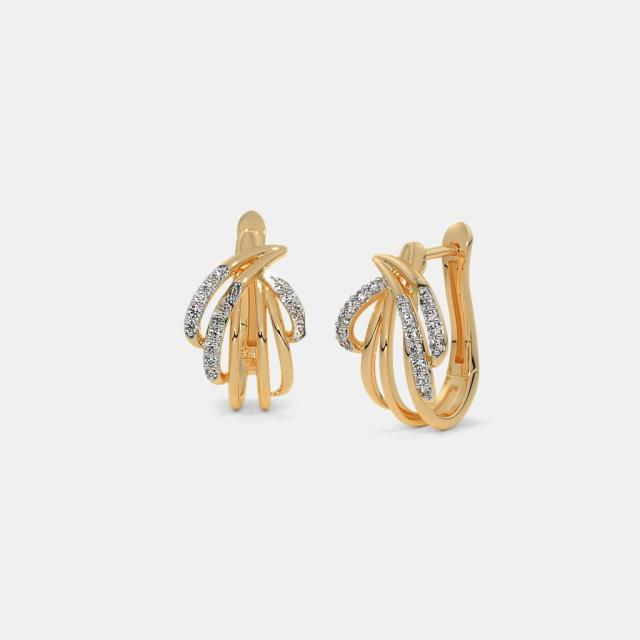missing gem: (212, 281, 241, 328), (418, 286, 437, 318)
